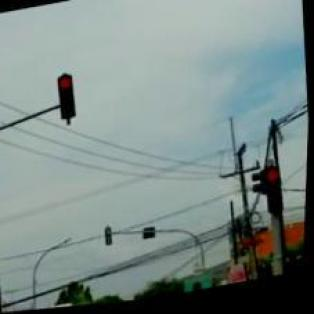Semoforo Rojo: (57, 74, 79, 124), (267, 172, 288, 222)
